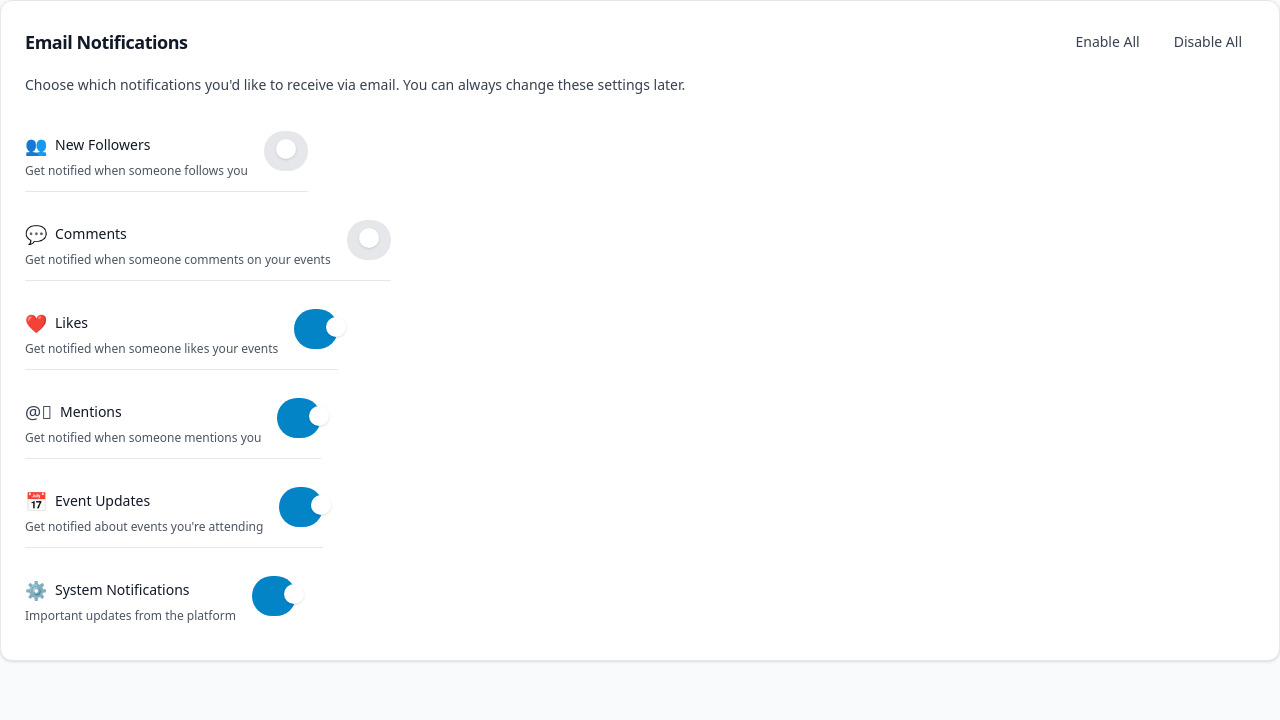
NotificationSettings Component › Actions › should enable all notifications when Enable All clicked
Click the button "Enable All": [1108, 42] box x1=1062 y1=25 x2=1153 y2=59
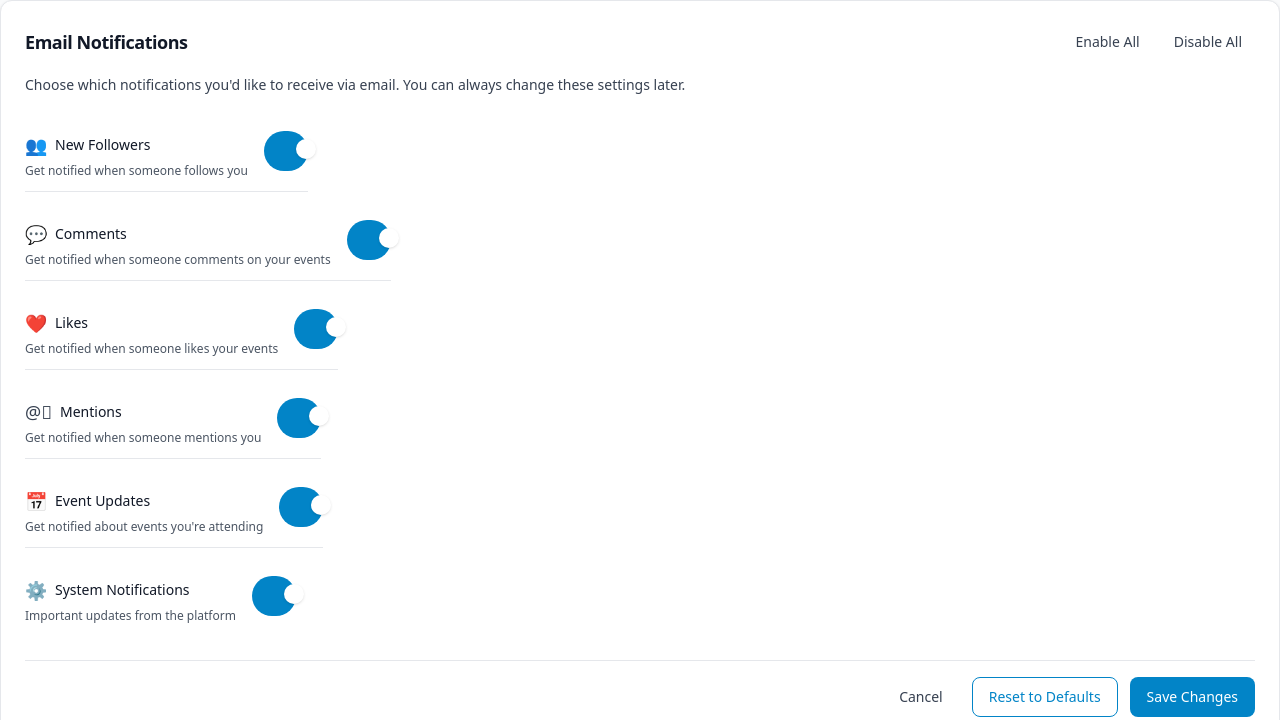
Expected: the button "Save Changes" is shown, x1=1130 y1=677 x2=1255 y2=717
